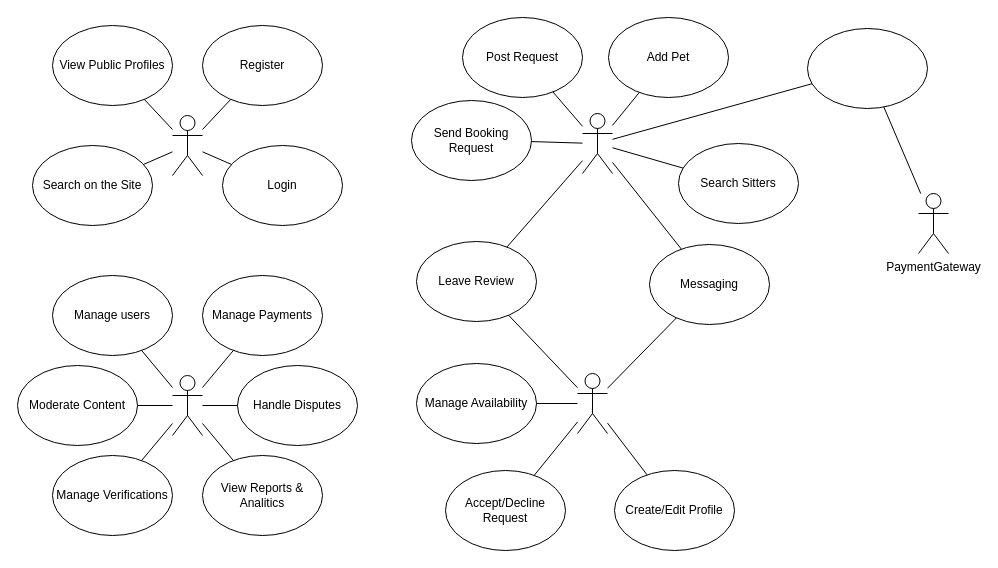
This 998x568 diagram has some shape labels left out. The box of each missing label's shape, as (x1, y1, x2, y2) in pixels:
Admin: (172, 374, 202, 436)
Guest: (172, 114, 202, 176)
Make Payment: (806, 28, 928, 108)
Pet Owner: (582, 112, 612, 174)
Pet Sitter: (576, 372, 608, 434)
